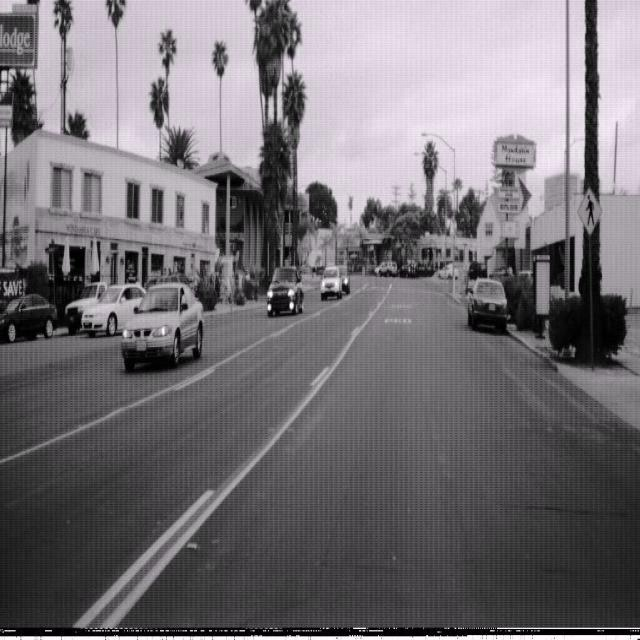pedestrianCrossing: (577, 184, 602, 237)
